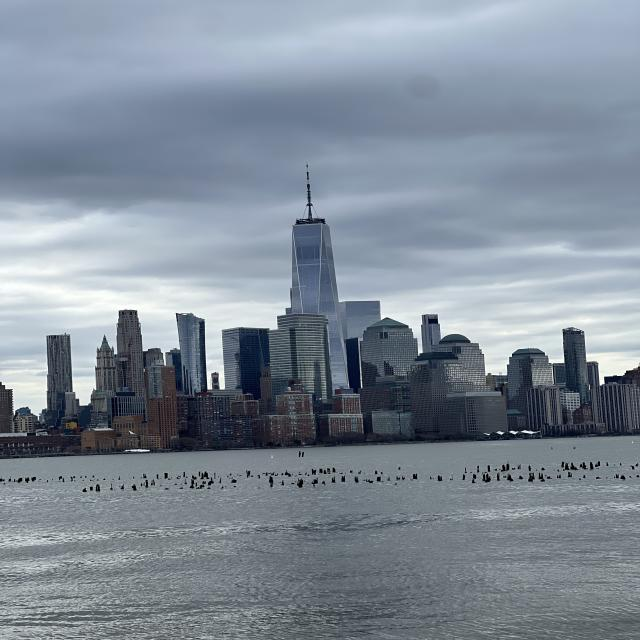WTC: (288, 161, 345, 314)
